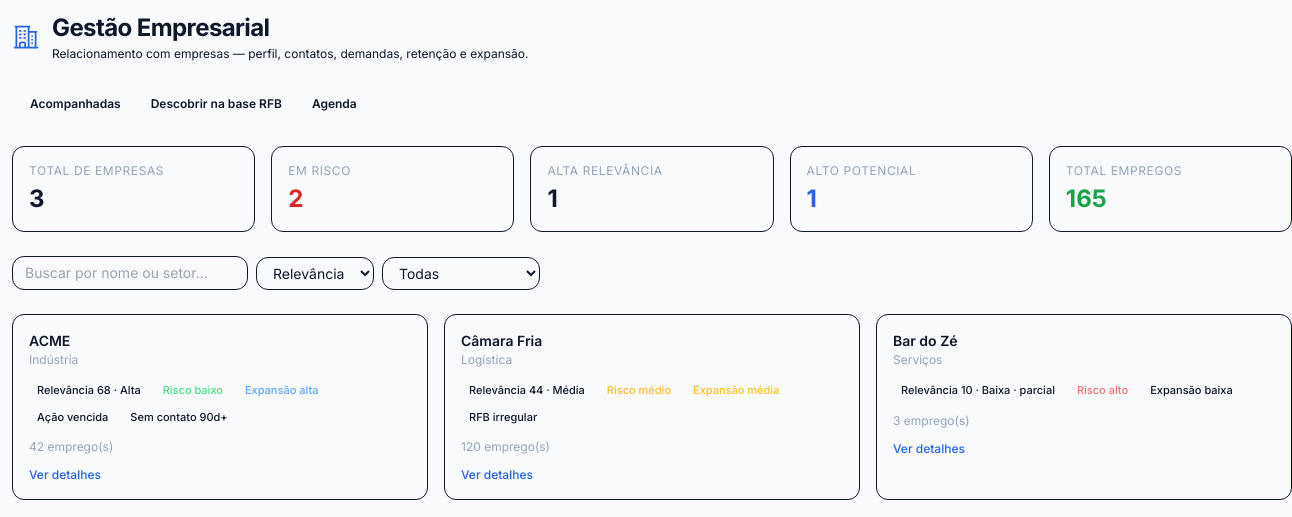
GestaoEmpresarialTab — relevância e risco calculados › busca ignora acento e caixa (nome ou setor) e mostra estado vazio
Expected: the button "ACME" is shown, x1=29 y1=332 x2=70 y2=349
In the field named "Buscar empresa": (130, 273) x1=12 y1=256 x2=248 y2=290, type "camara"
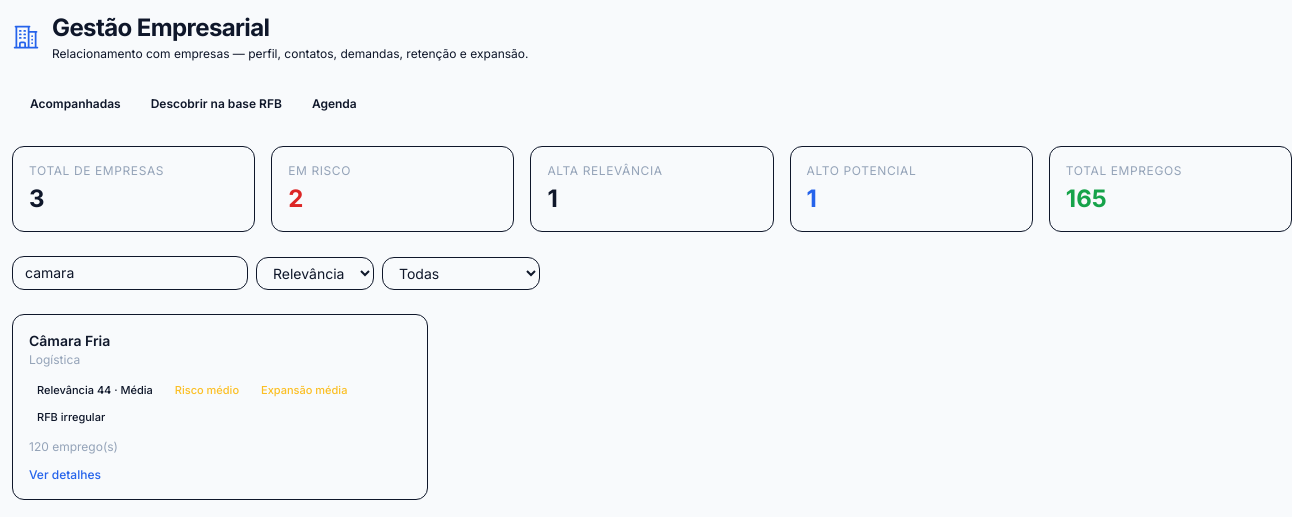
Replace the text in the field named "Buscar empresa" with "LOGIST": (130, 273) x1=12 y1=256 x2=248 y2=290
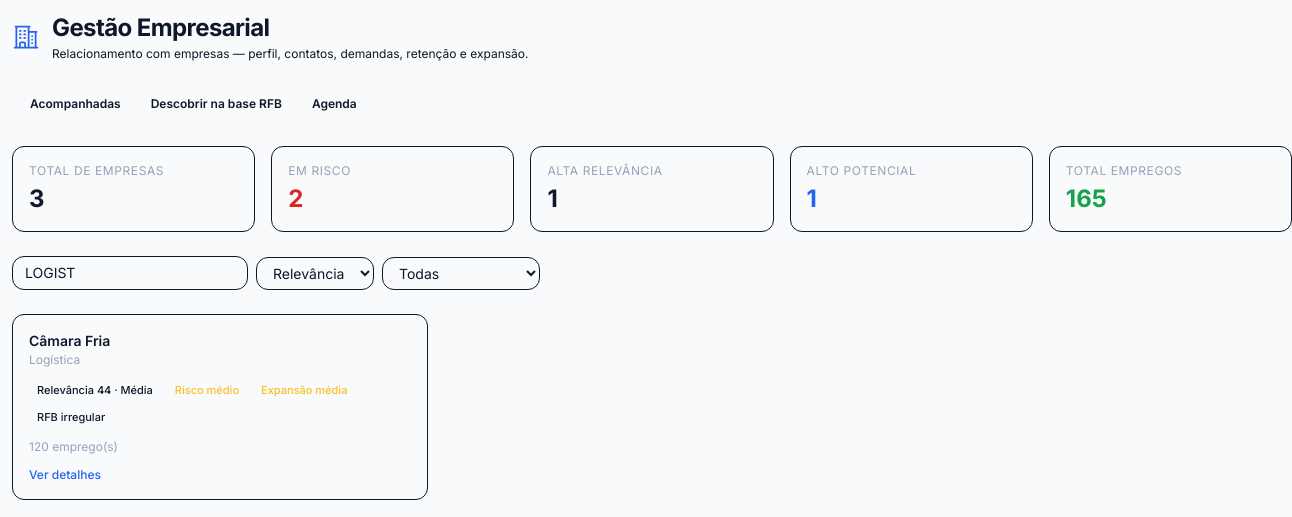
Replace the text in the field named "Buscar empresa" with "zzz": (130, 273) x1=12 y1=256 x2=248 y2=290
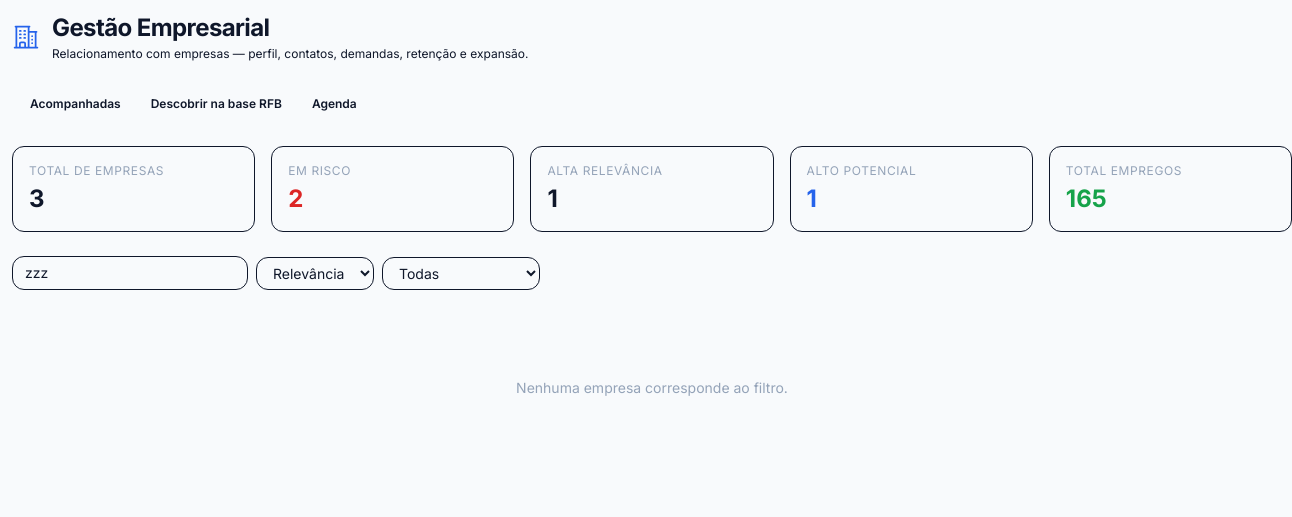
Result: the text "Nenhuma empresa corresponde ao filtro." is shown at x1=516 y1=379 x2=788 y2=396
Result: no buttons are shown
